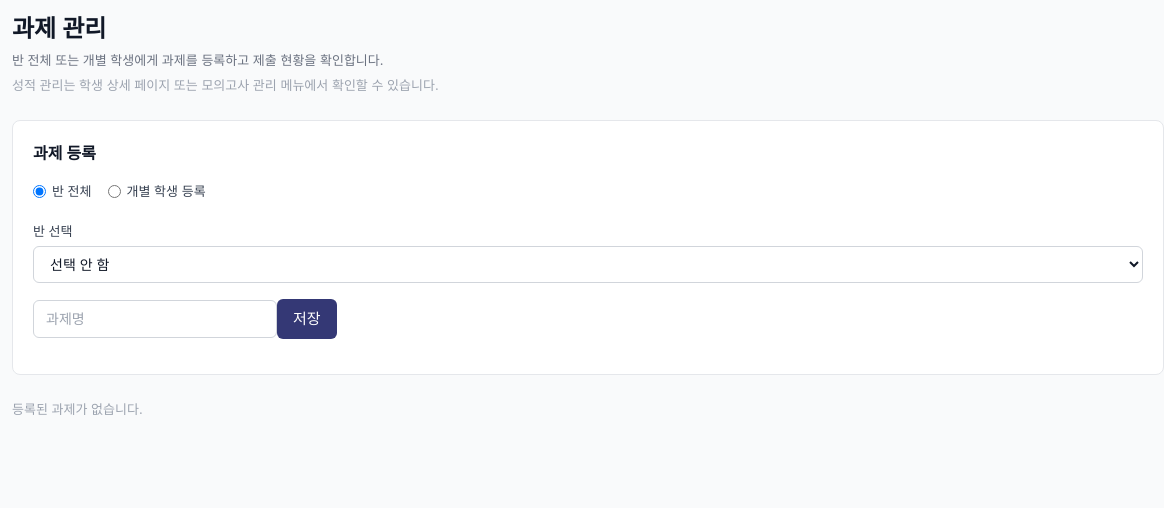
Test case: 과제 관리 페이지 › 과제명을 비운 채 저장을 시도하면 인라인 에러가 표시되고 저장되지 않는다
Click the radio button labelled "반 전체". click: x=40, y=192
box: x1=33 y1=185 x2=46 y2=198
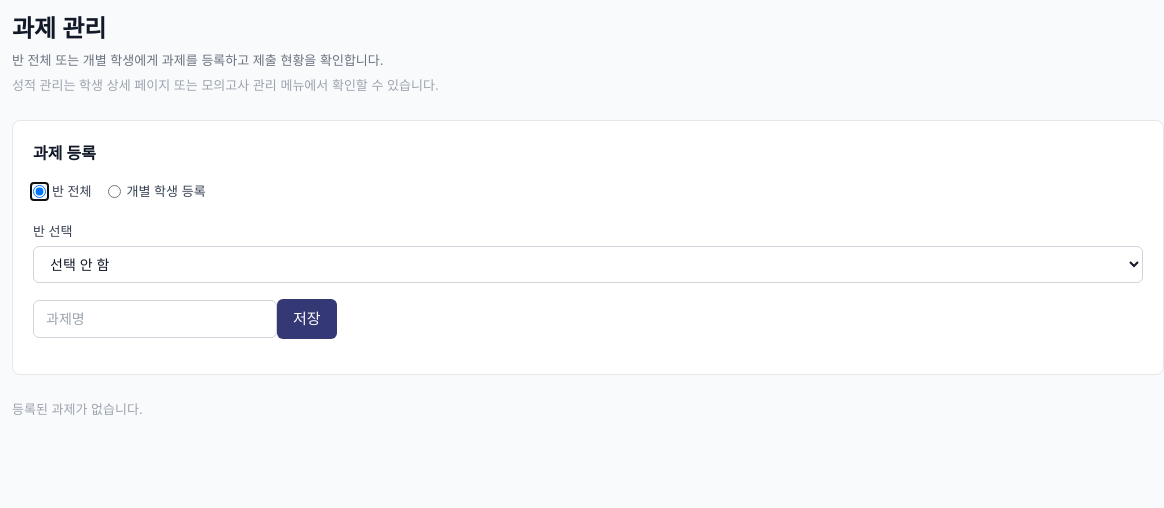
Select "수학 심화반" in the dropdown labelled "반 선택". click: x=588, y=264
box: x1=33 y1=246 x2=1143 y2=283
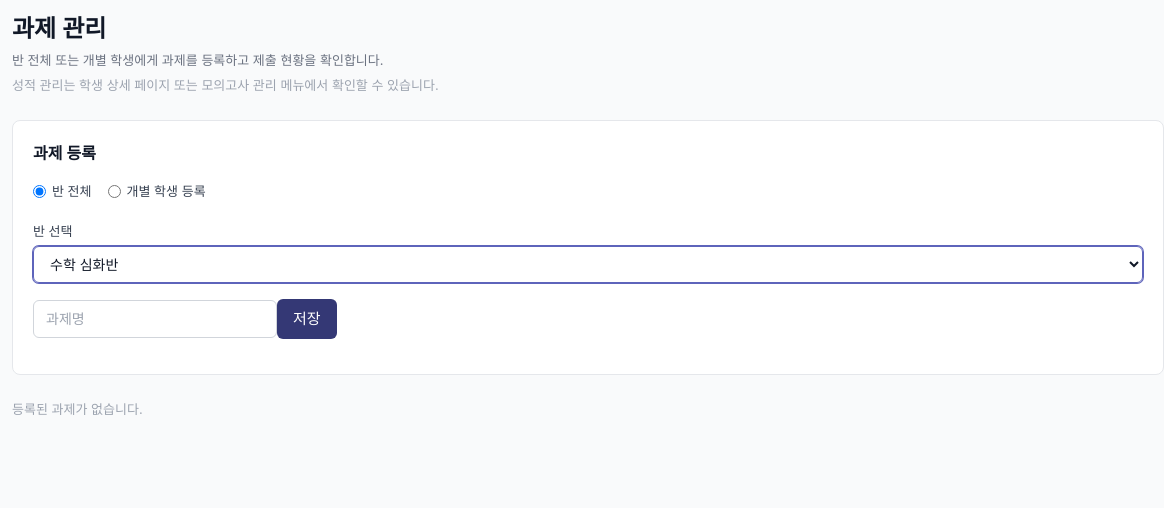
Click the button "저장". click: x=307, y=319
box: x1=277 y1=299 x2=337 y2=339
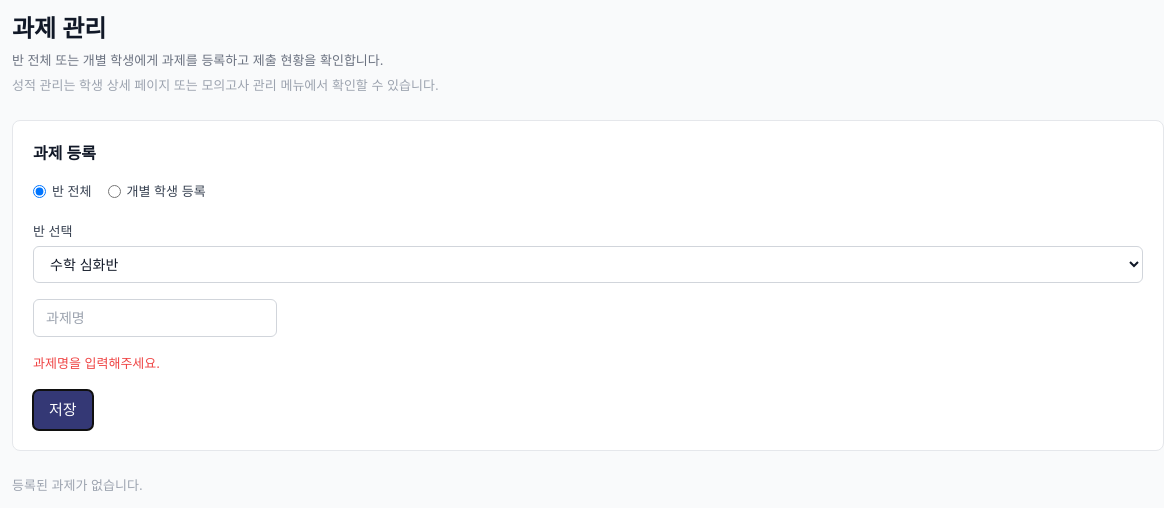
Check: the text "과제명을 입력해주세요." is shown, box x1=33 y1=355 x2=160 y2=371
